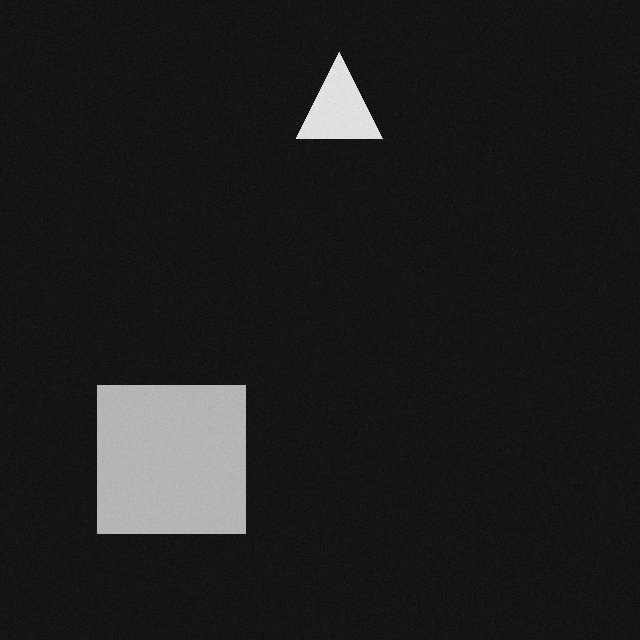square: (97, 379, 245, 527)
triangle: (296, 46, 382, 132)
